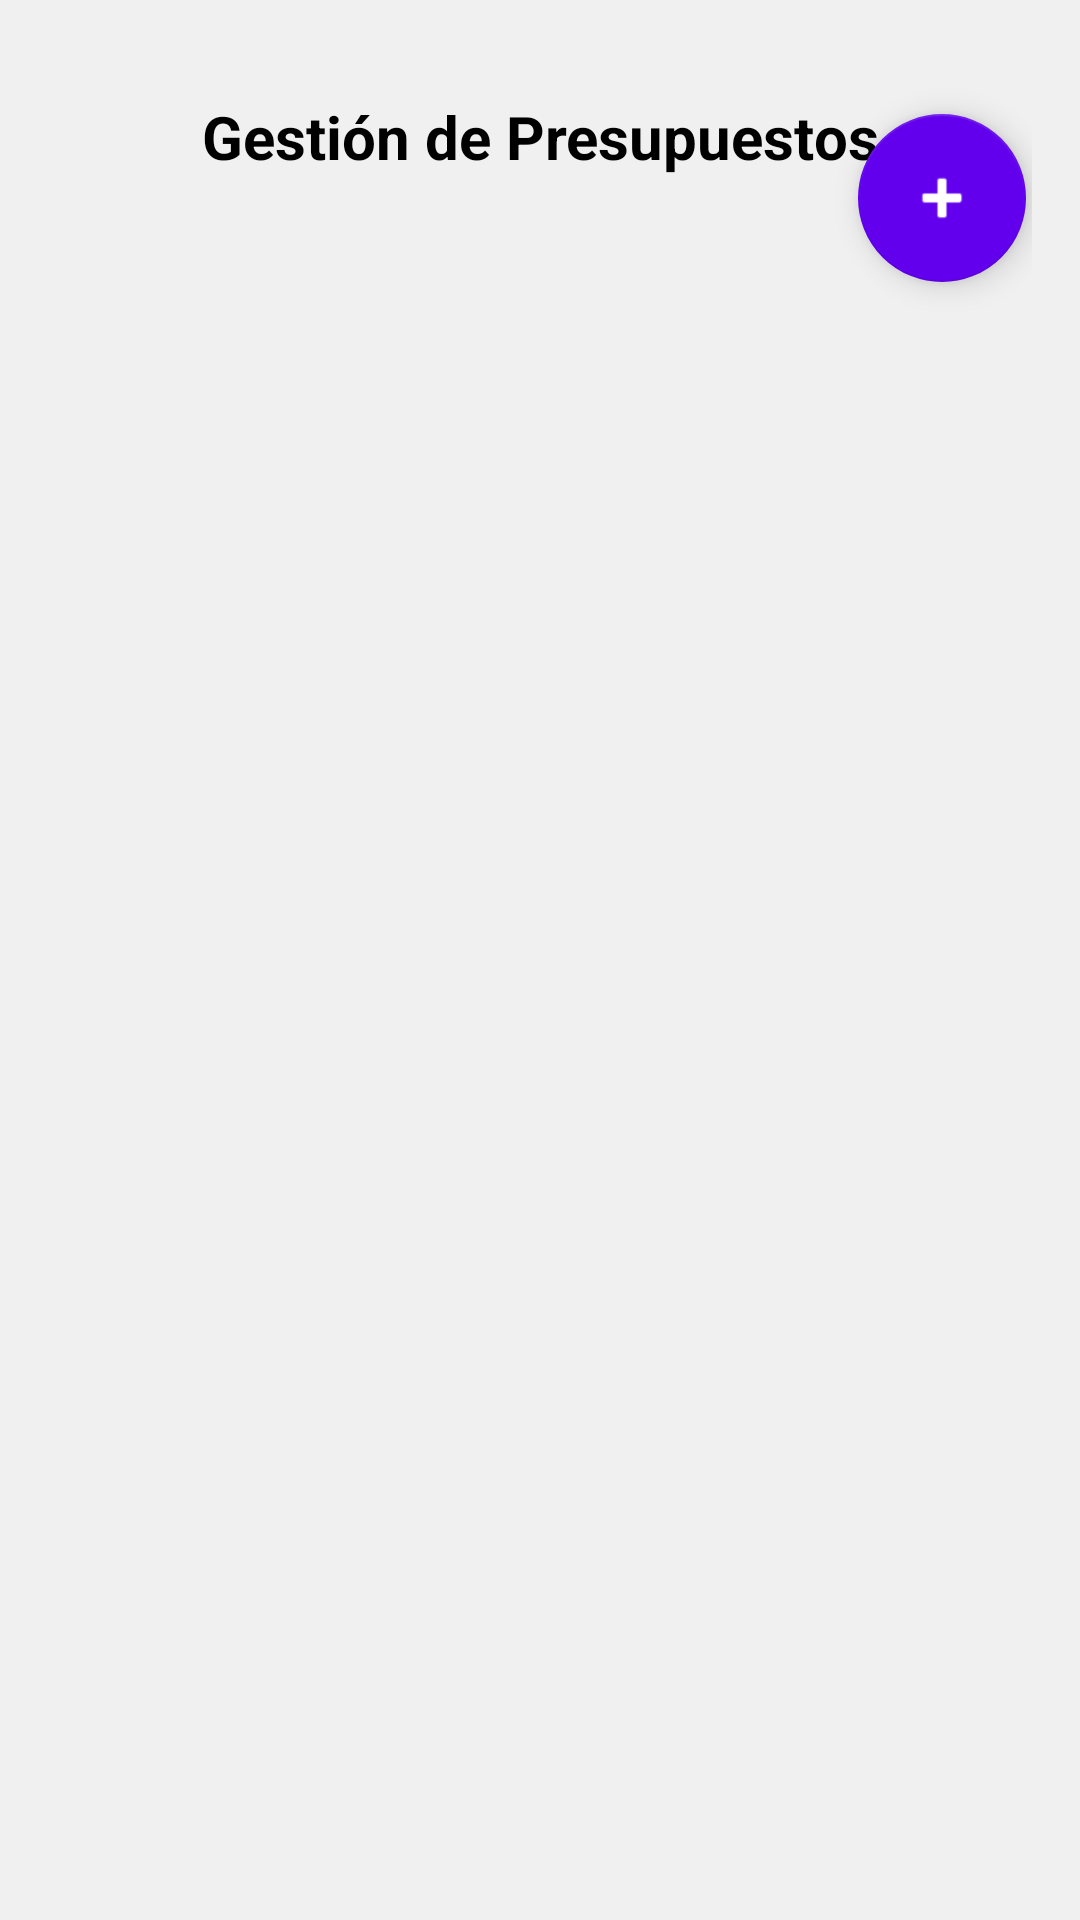

Locate icon controls on the screen. Image size 1080 × 1920, boxes as (x1,y1,x2,y2).
add: (858,114,1026,282)
